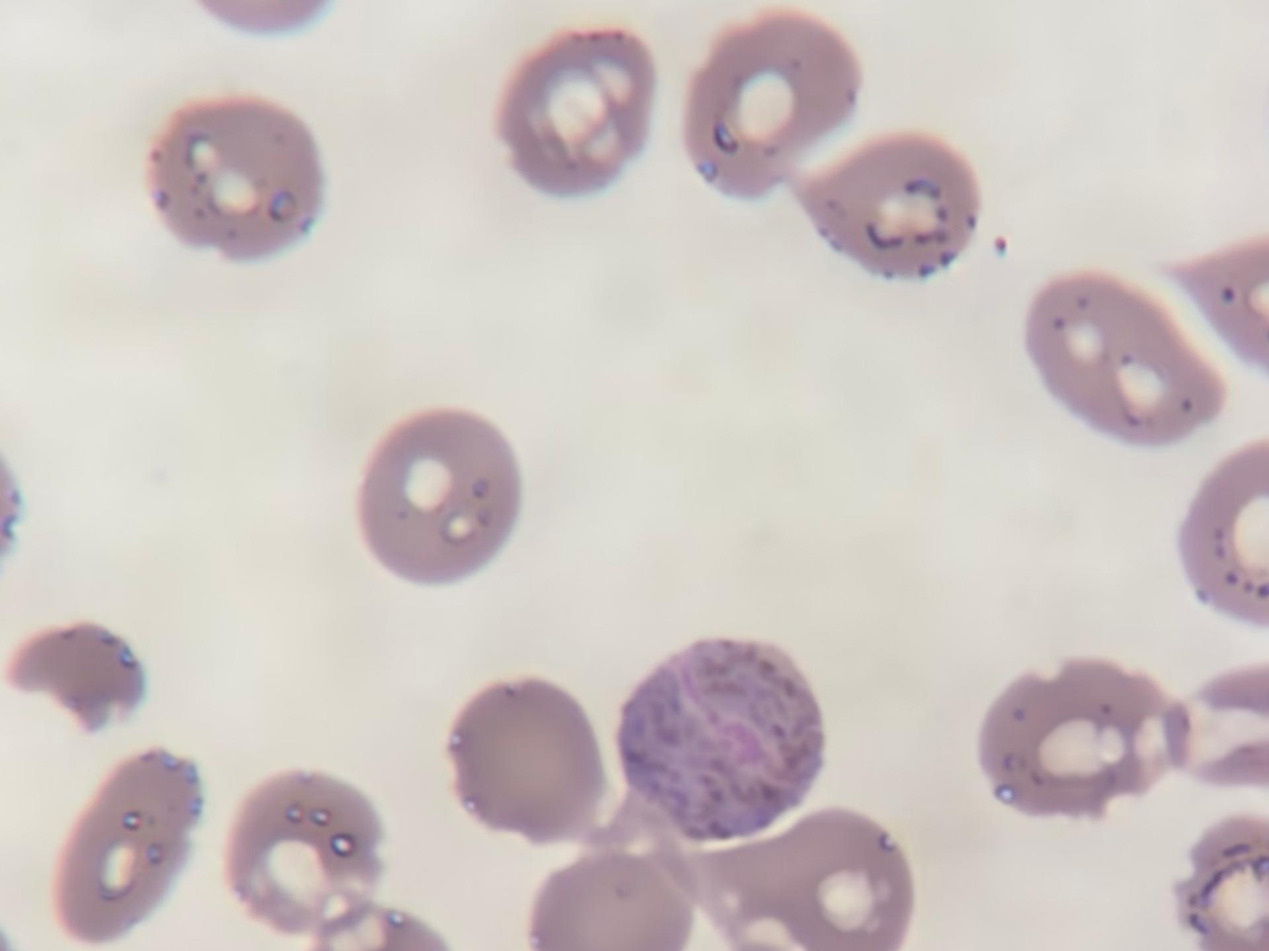Infected: (621, 640, 824, 838)
Uninfected: (1024, 269, 1225, 445), (983, 657, 1188, 824), (681, 805, 909, 951), (683, 12, 858, 199), (361, 408, 527, 594), (145, 100, 328, 267), (53, 748, 209, 941), (494, 23, 652, 196), (445, 675, 608, 841), (227, 776, 382, 930), (815, 135, 977, 279), (533, 855, 693, 951), (9, 624, 141, 722)
